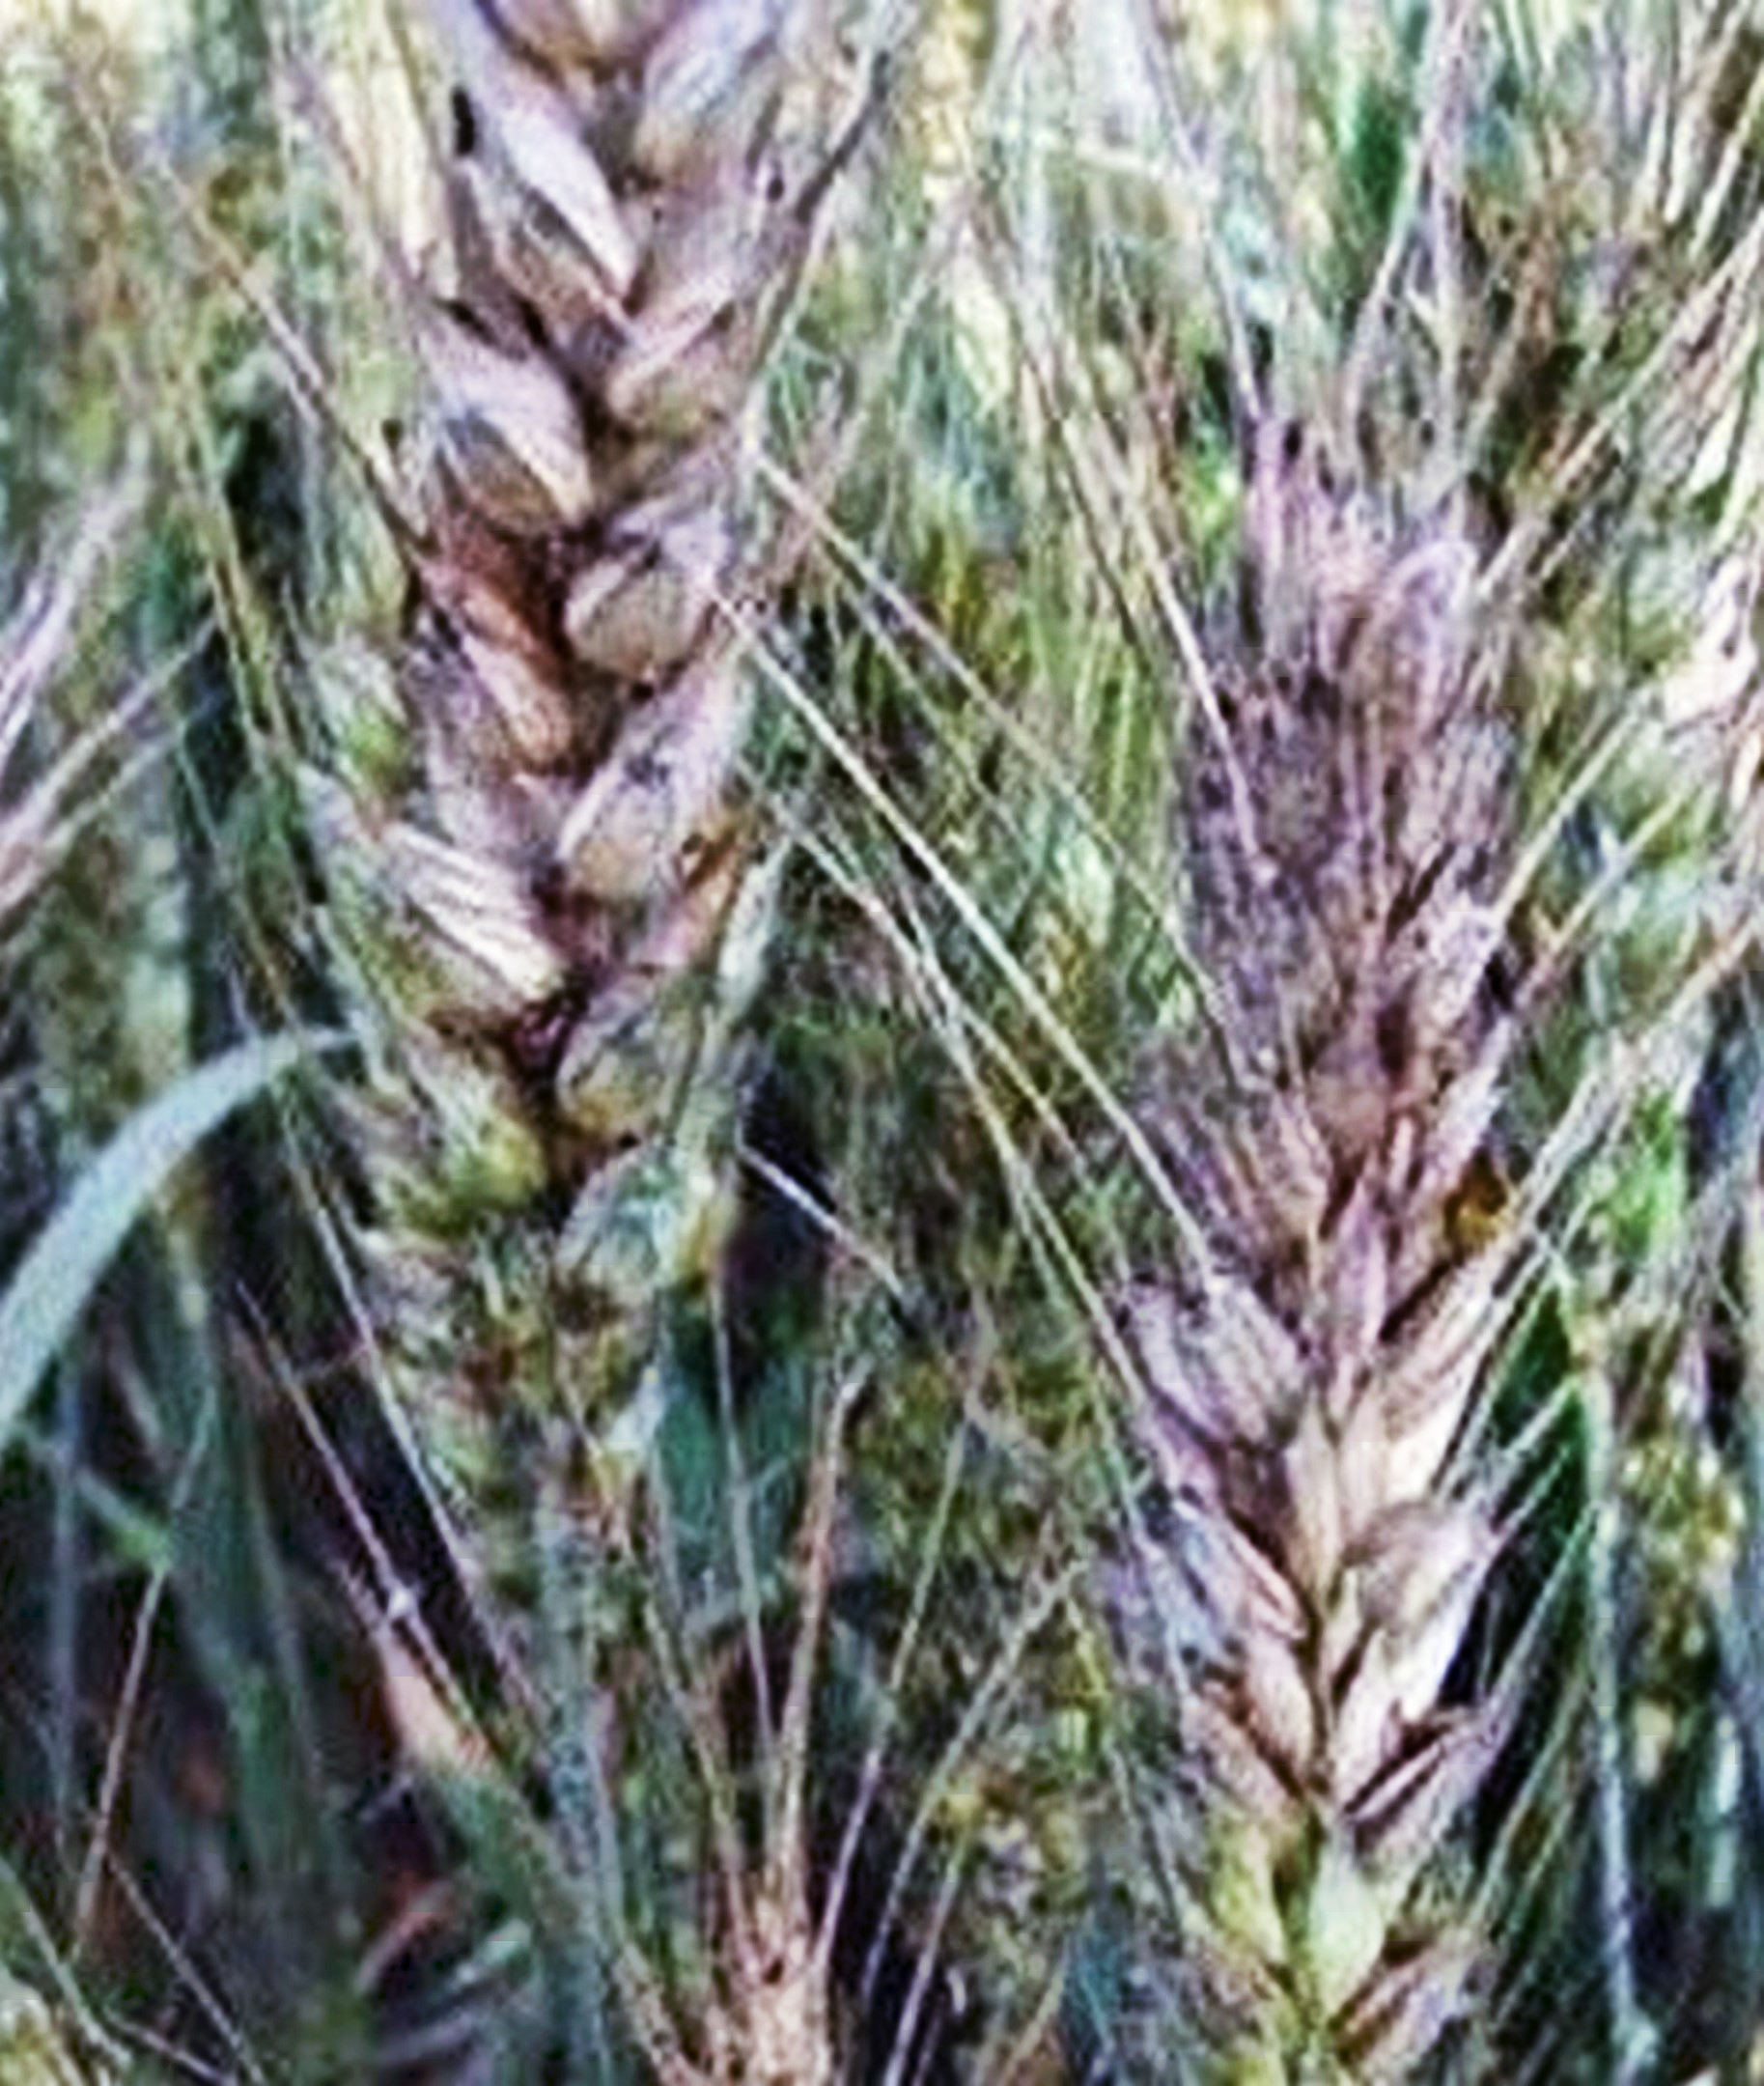Wheat scab: (317, 11, 805, 1542), (1134, 422, 1540, 2028)
